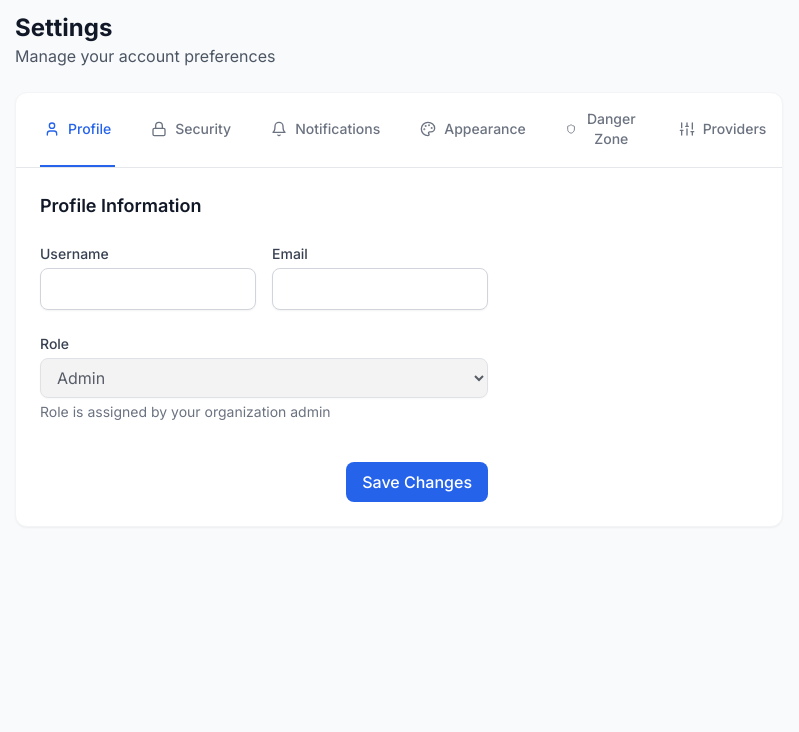
Test: Settings page — enrichment providers (Phase 2.1) › refresh button reloads providers
The width and height of the screenshot is (799, 732).
Click the tab "Providers" at (722,130), box x1=675 y1=93 x2=770 y2=167
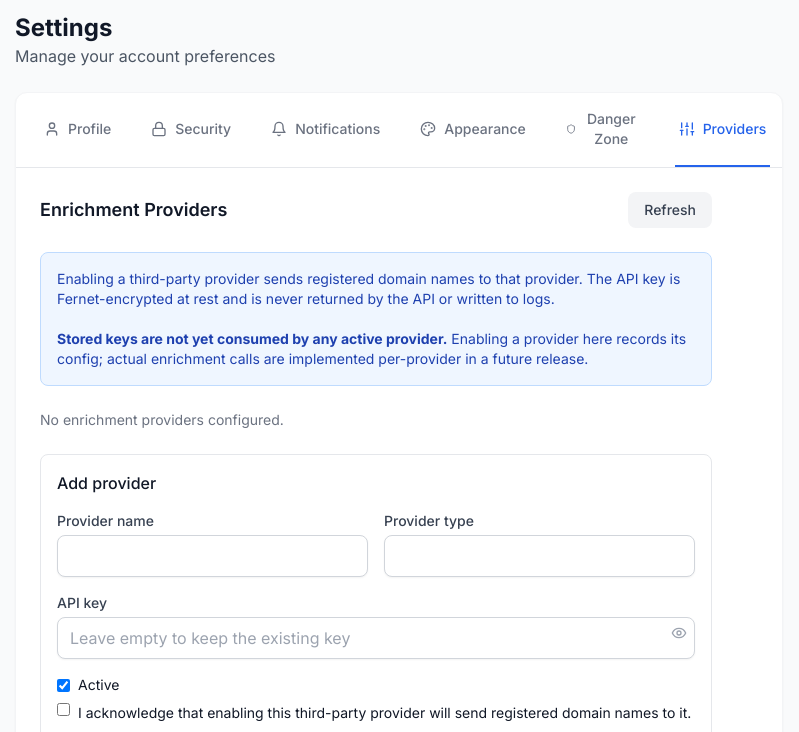
Check: the text "No enrichment providers configured." is shown, box x1=40 y1=411 x2=284 y2=428
Click the button with test id "providers-refresh" at (670,210), box x1=628 y1=192 x2=712 y2=228
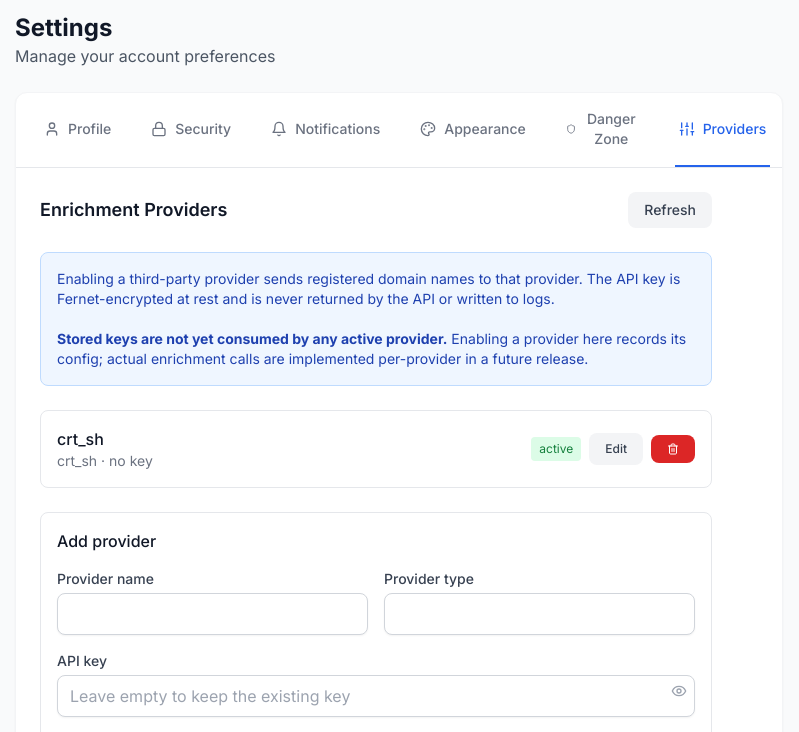
Check: the text "crt_sh" is shown, box x1=57 y1=429 x2=104 y2=449
